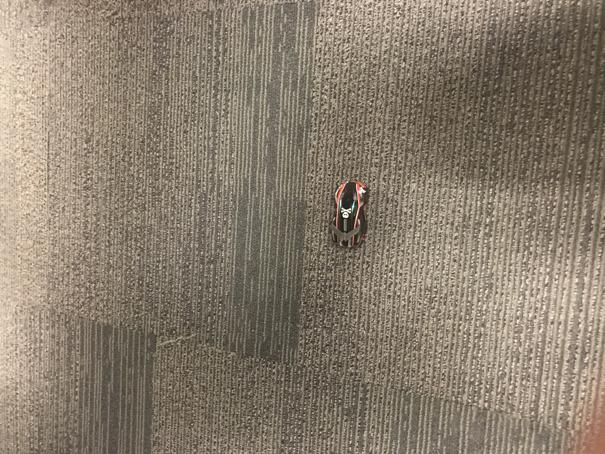Skull: (330, 181, 368, 249)
